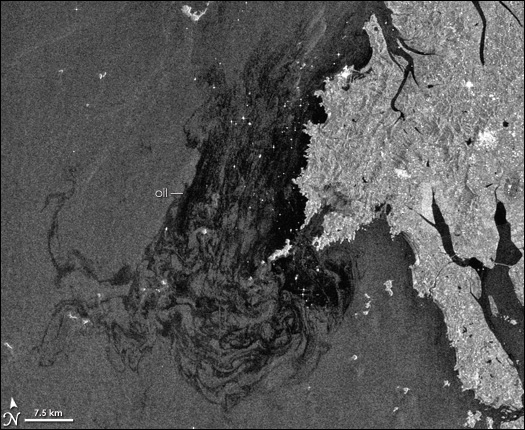anomaly: (87, 67, 358, 416)
